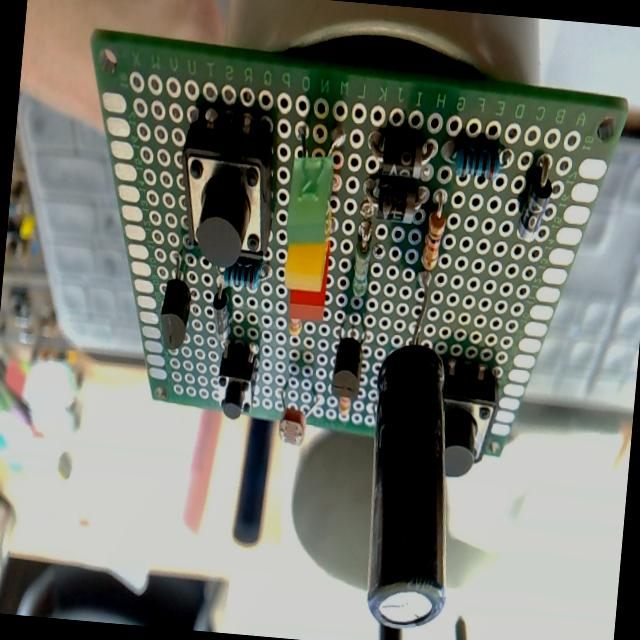Electrolytic capacitor: (353, 263, 473, 625)
cds: (275, 381, 320, 448)
diode: (358, 132, 440, 228), (514, 153, 555, 242), (362, 177, 428, 219), (208, 284, 232, 343)
led: (284, 228, 339, 327), (286, 155, 334, 246), (283, 236, 327, 294)
resistor: (442, 137, 514, 184), (347, 214, 375, 317), (420, 210, 446, 272), (222, 256, 264, 293), (286, 296, 308, 346)
switch: (174, 112, 282, 272), (430, 361, 504, 480), (214, 341, 260, 422)
transistor: (156, 247, 196, 351), (330, 332, 364, 398)
